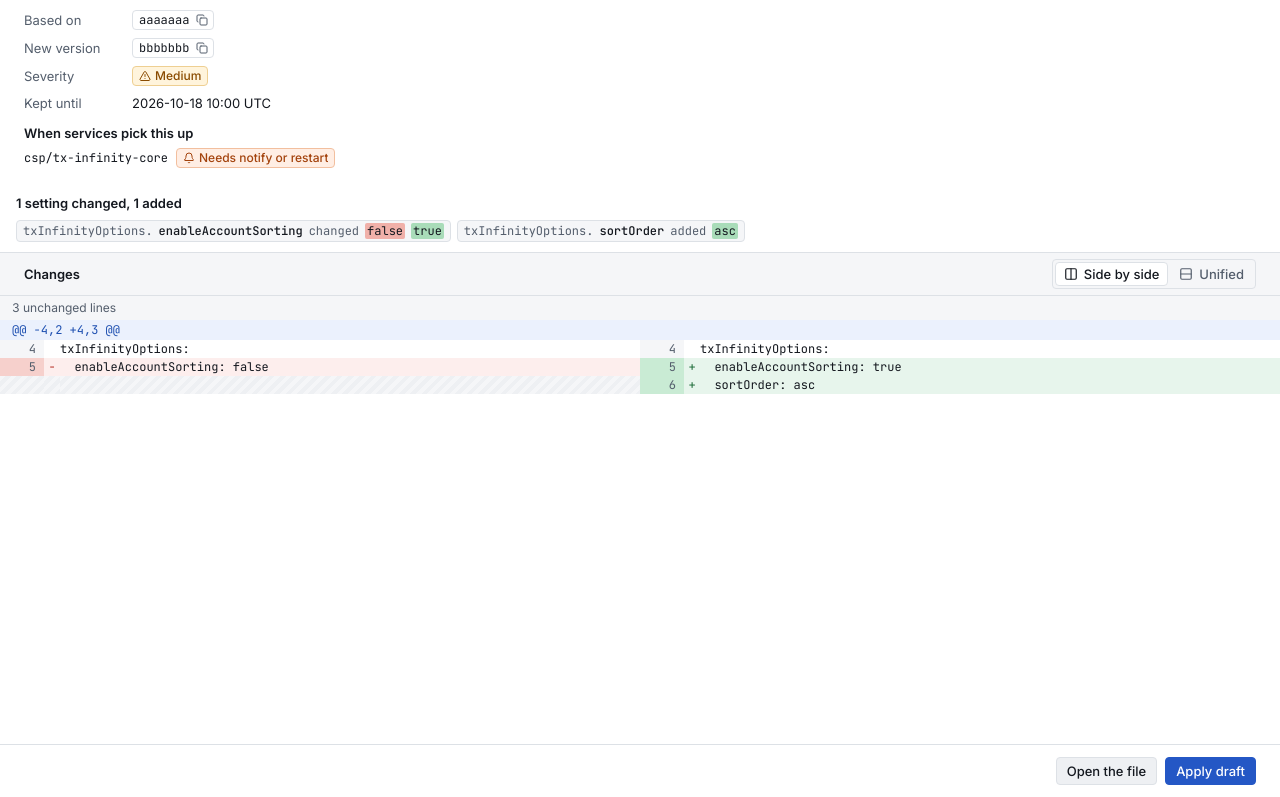
Scenario: DraftPage: applying › writes nothing when the person cancels
(page scrolled)
Click the button "Apply draft": (1211, 771) [1165,757,1256,785]
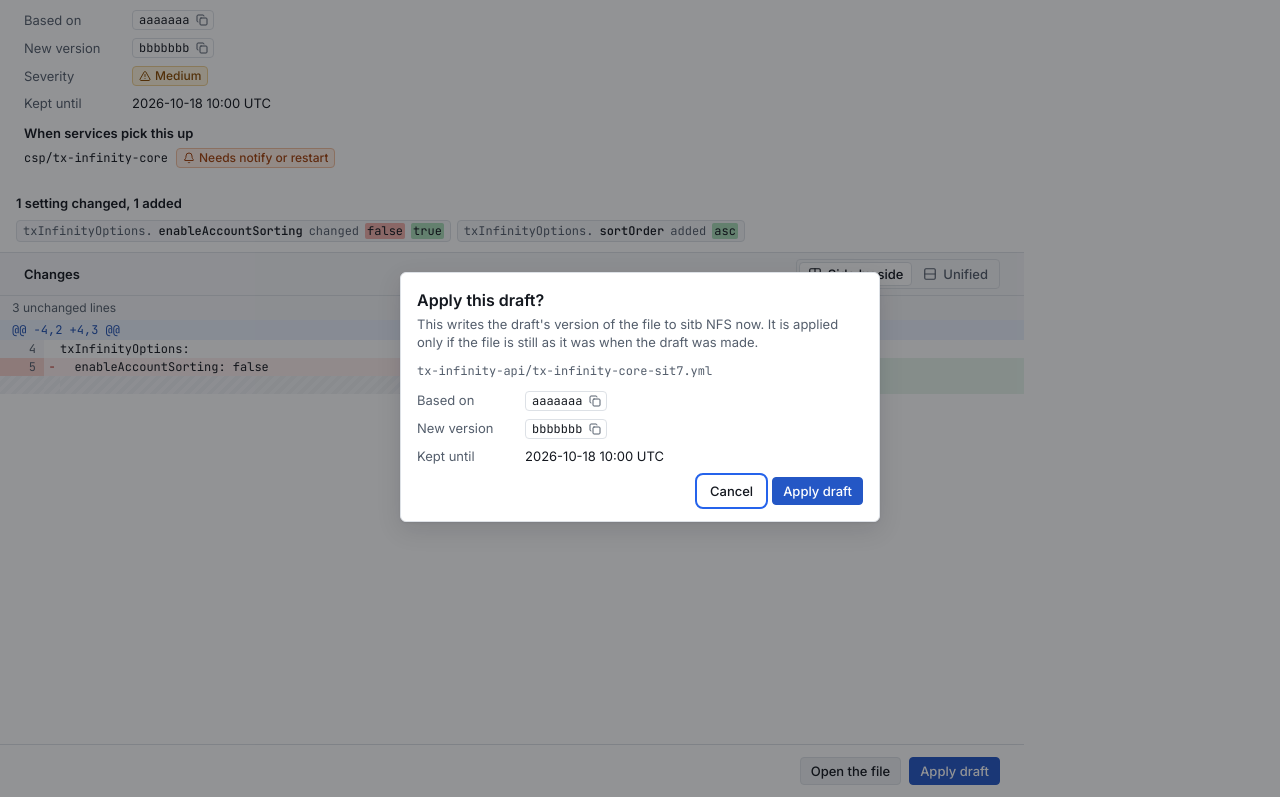
Click the button "Cancel": (732, 491) [699,477,764,505]
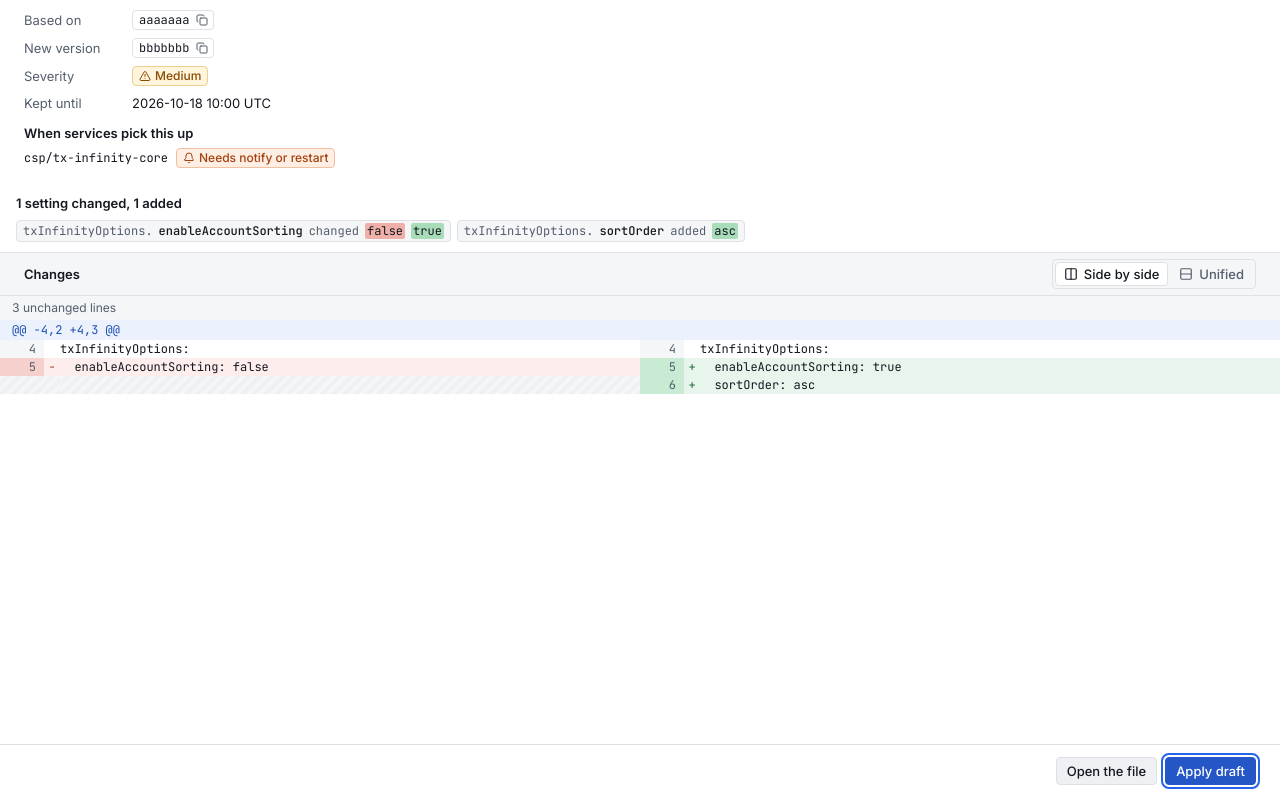
Now the dialog is gone
